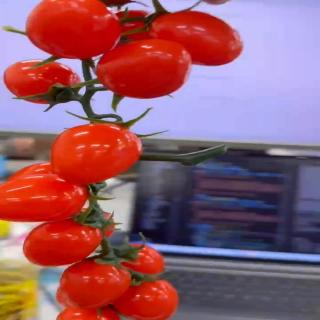tomato: (143, 8, 249, 67), (49, 121, 141, 185), (97, 40, 192, 100), (25, 0, 122, 58), (0, 172, 89, 226), (23, 218, 102, 267), (59, 262, 133, 309), (2, 60, 78, 105), (109, 277, 180, 319), (113, 245, 166, 279), (57, 306, 102, 320)
